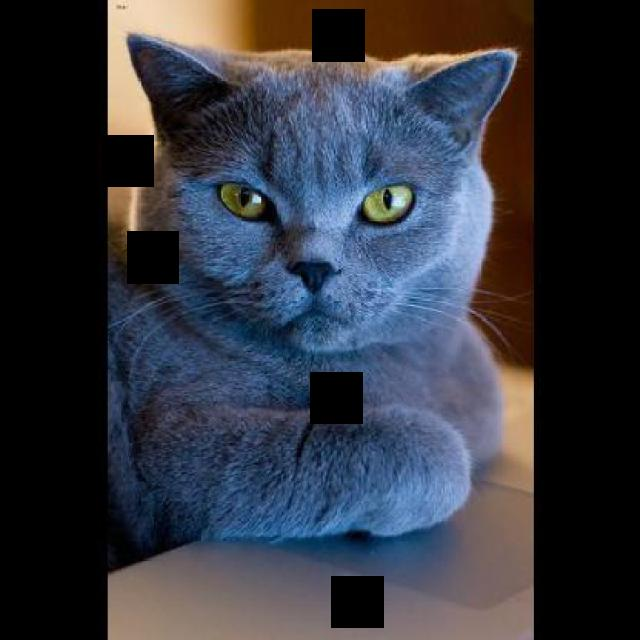unauthorized: (106, 29, 525, 571)
